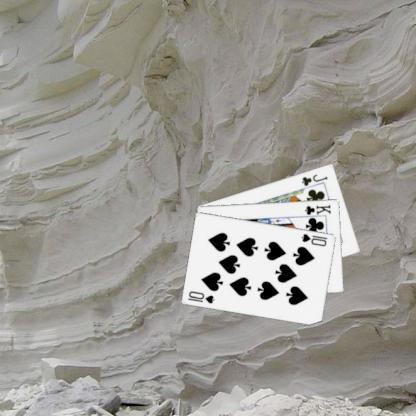10S: (298, 230, 328, 247), (186, 288, 216, 305)
JC: (299, 171, 329, 187)
KC: (300, 202, 332, 218)
